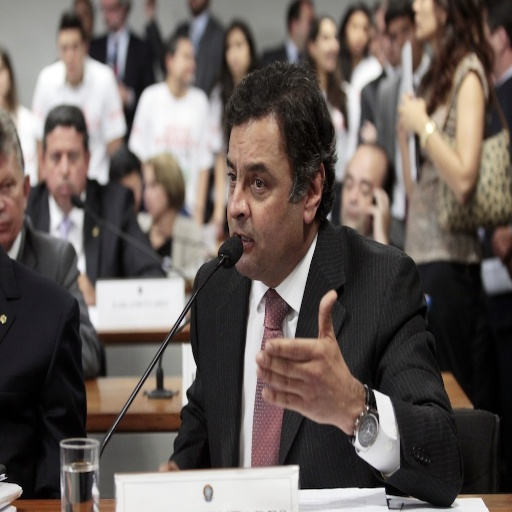hand: (255, 324, 367, 432), (365, 184, 390, 244), (396, 90, 425, 131), (76, 271, 97, 303)
